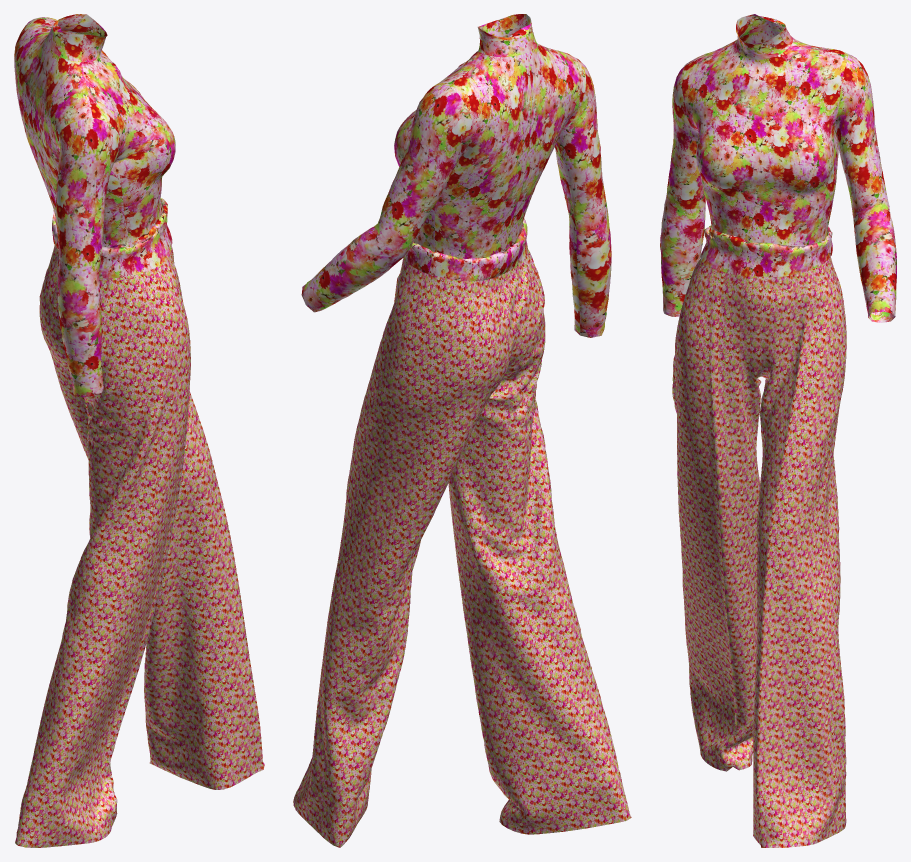
Rendered from DA_HighNeck+WidePants_0000151.obj.
3 renders of one model, left to right at view 1: azimuth 30°, elevation 25°; view 2: azimuth 150°, elevation 25°; view 3: azimuth 270°, elevation 25°, orthographic. The views are drawn at different scales.
Bounding box in the file's own units: 0.6002 × 1.62 × 0.4651.
